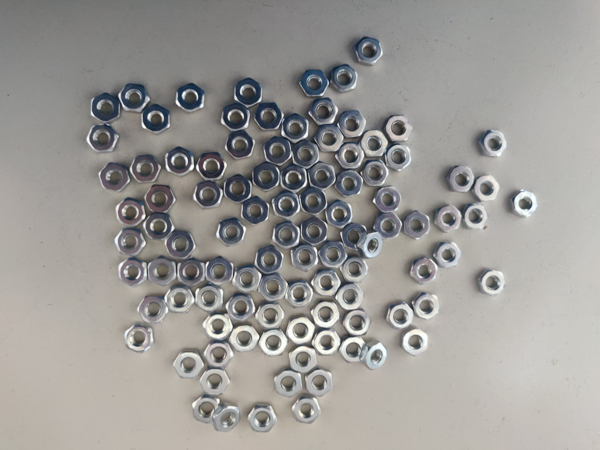nut: (123, 324, 155, 354), (163, 231, 195, 261), (232, 78, 263, 108), (328, 64, 359, 94), (99, 163, 131, 192), (87, 125, 119, 154), (90, 93, 122, 122), (140, 105, 172, 134), (174, 84, 206, 113), (115, 230, 147, 259), (115, 198, 147, 227), (340, 222, 370, 252), (119, 85, 150, 114), (299, 69, 330, 98), (130, 155, 161, 184), (204, 341, 235, 370), (217, 219, 248, 248), (138, 295, 169, 324), (310, 301, 341, 330), (164, 148, 195, 177), (308, 97, 339, 126), (259, 329, 289, 358), (204, 313, 234, 342), (248, 404, 278, 433), (165, 285, 195, 314), (509, 189, 538, 219), (145, 212, 174, 242), (255, 102, 285, 131), (291, 397, 322, 425), (229, 325, 260, 353), (200, 369, 231, 397), (288, 347, 319, 375), (258, 275, 289, 303), (255, 247, 286, 275), (193, 181, 224, 209), (225, 131, 256, 159), (222, 105, 253, 133), (263, 139, 294, 167), (148, 256, 176, 287), (226, 293, 257, 321), (174, 351, 204, 379), (205, 258, 235, 286), (117, 258, 147, 286), (196, 153, 226, 181), (372, 187, 402, 215), (361, 340, 389, 370), (353, 38, 384, 65), (300, 218, 329, 246), (343, 309, 372, 337), (402, 212, 430, 241), (336, 283, 365, 311), (265, 137, 293, 166), (285, 280, 314, 308), (241, 199, 271, 226), (334, 171, 364, 198), (324, 201, 354, 228), (315, 126, 345, 153), (272, 192, 302, 219), (272, 222, 302, 249), (311, 270, 341, 297), (146, 185, 176, 212), (410, 258, 438, 286), (287, 317, 315, 345), (213, 405, 241, 433), (403, 328, 430, 357), (291, 246, 320, 273), (387, 302, 414, 331), (385, 116, 414, 143), (306, 370, 335, 397), (196, 286, 225, 313), (413, 293, 441, 320), (342, 256, 369, 284), (253, 164, 281, 191), (357, 230, 384, 258), (309, 161, 335, 190), (283, 113, 309, 142), (233, 267, 262, 293), (448, 166, 475, 193), (339, 110, 366, 137), (281, 164, 308, 191), (340, 338, 368, 364), (478, 270, 506, 296), (434, 243, 462, 269), (480, 130, 508, 156), (192, 398, 220, 424), (294, 141, 320, 169), (436, 206, 462, 233), (363, 130, 389, 157), (257, 303, 284, 329), (274, 371, 302, 396), (387, 144, 412, 172), (337, 144, 365, 169), (226, 175, 251, 203), (320, 242, 348, 267), (314, 330, 342, 354), (464, 203, 489, 229), (302, 190, 328, 215), (178, 258, 203, 284), (377, 213, 401, 240), (475, 175, 499, 201), (364, 160, 388, 185)
